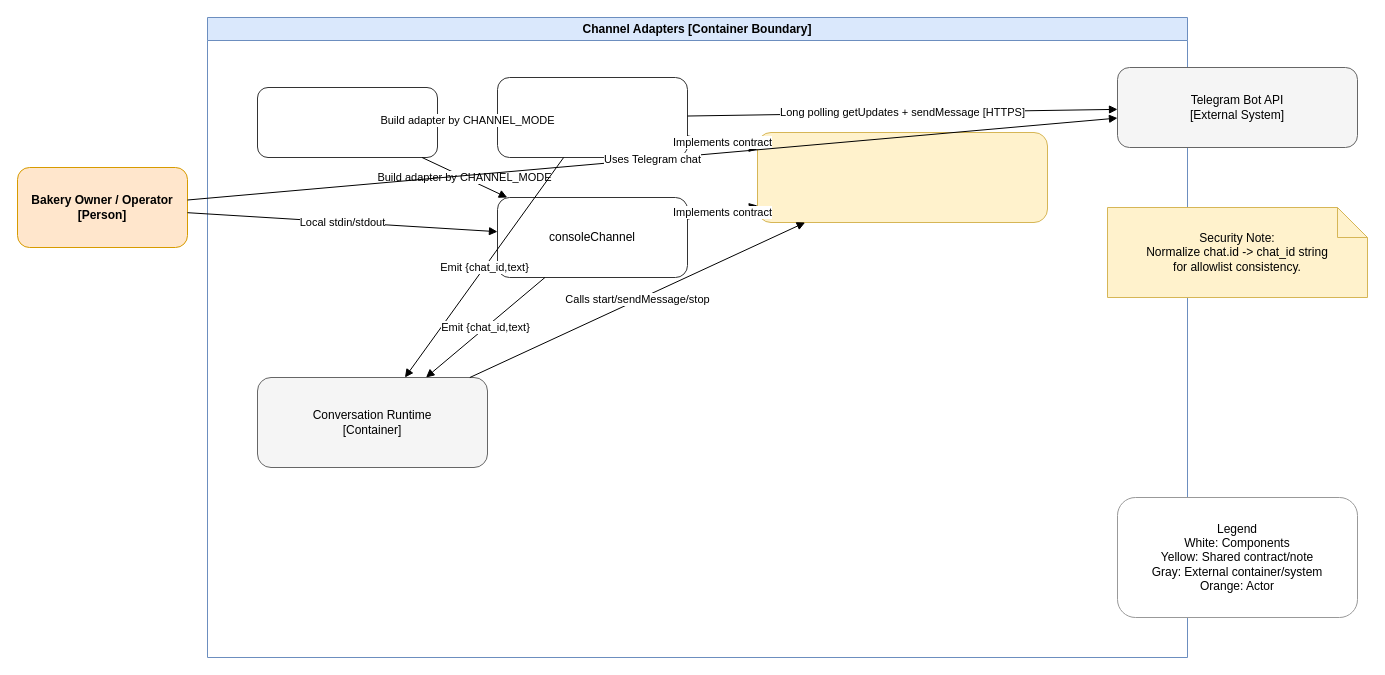
This 1385x675 diagram has some shape labels left out. Here are the shapes that lost their labels. From the top down, the box of each, then its label:
(256, 86, 438, 158): channelFactory
(496, 76, 688, 158): telegramChannel
(756, 132, 1048, 222): ChannelAdapter Contract (start/onMessage/sendMessage/stop)
